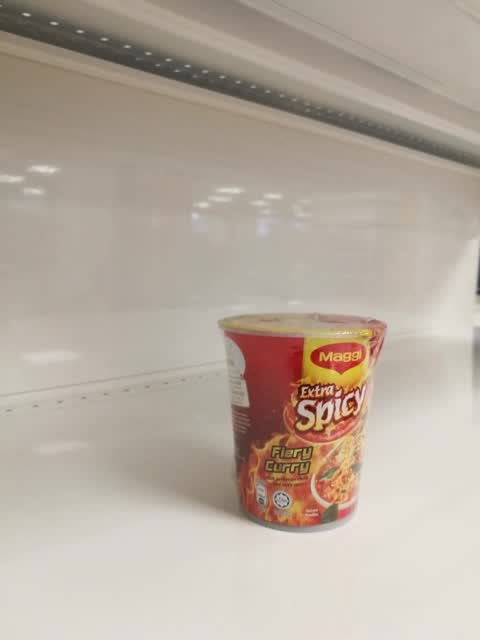maggi: (218, 311, 391, 534)
